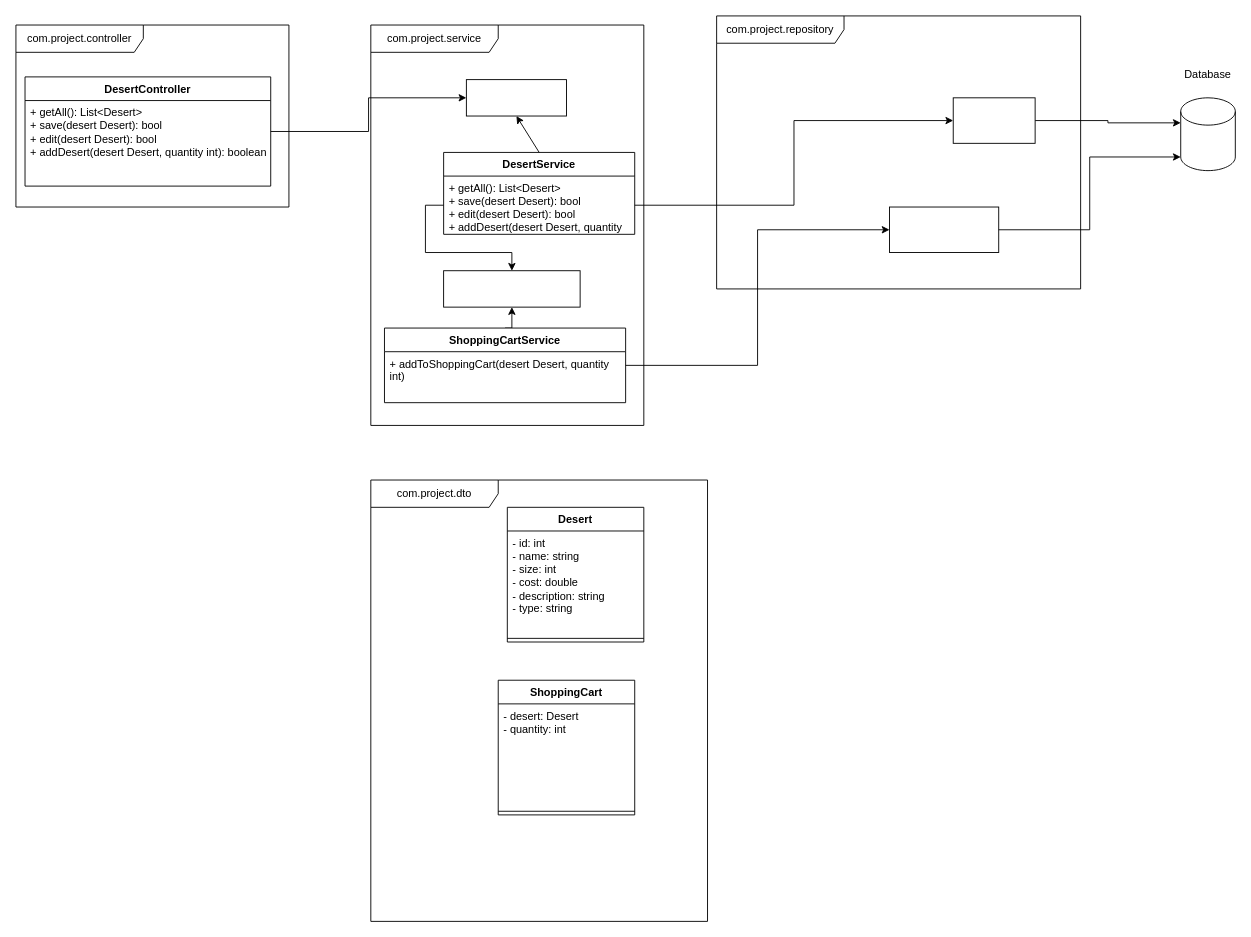
This 1251x937 diagram has some shape labels left out. Each missing label, with the centre of its shape:
«interface» IDesertDAO: point 993,120
«interface» IDesertService: point 515,97
«interface» IShoppingCartDAO: point 944,229
«interface» IShoppingCartService: point 511,288
